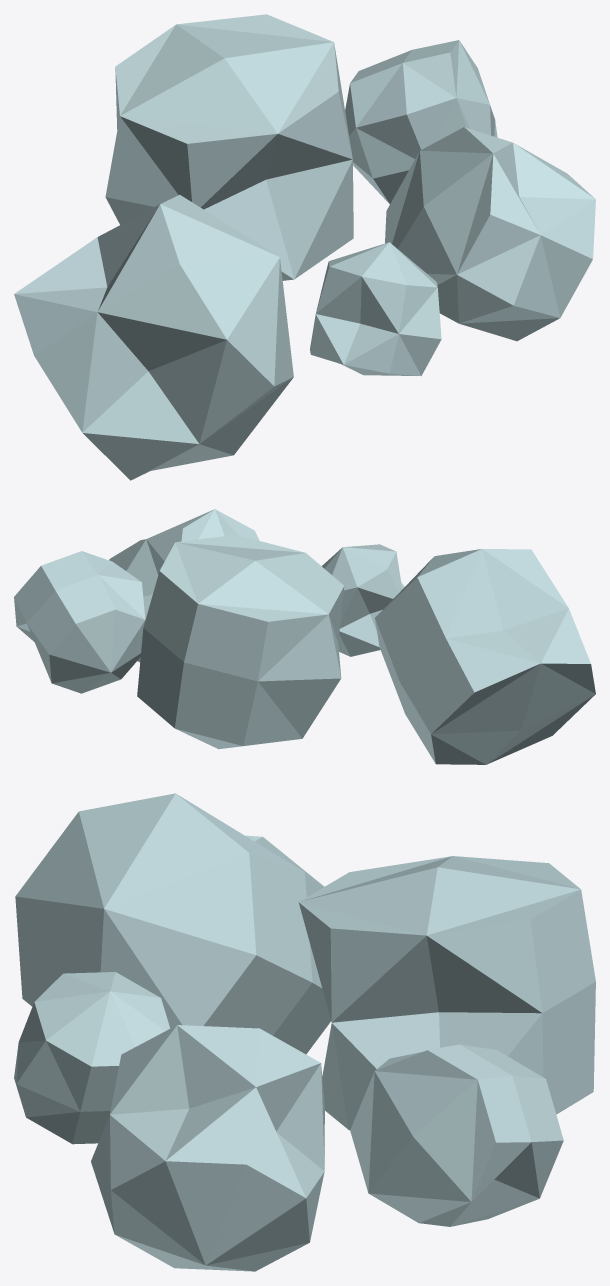
The picture shows the model from 3 angles, top to bottom: view 1: azimuth 30°, elevation 25°; view 2: azimuth 150°, elevation 25°; view 3: azimuth 270°, elevation 25°; orthographic projection. The views are drawn at different scales.
Visible parts, largest first — view 1: Object10; view 2: Object10; view 3: Object10.
Part boxes in pixels (bbox=[...]): Object10: bbox=[14, 14, 595, 480]; Object10: bbox=[14, 509, 595, 764]; Object10: bbox=[14, 793, 595, 1271].
Bounding box in the file's own units: 217 × 102 × 155.
